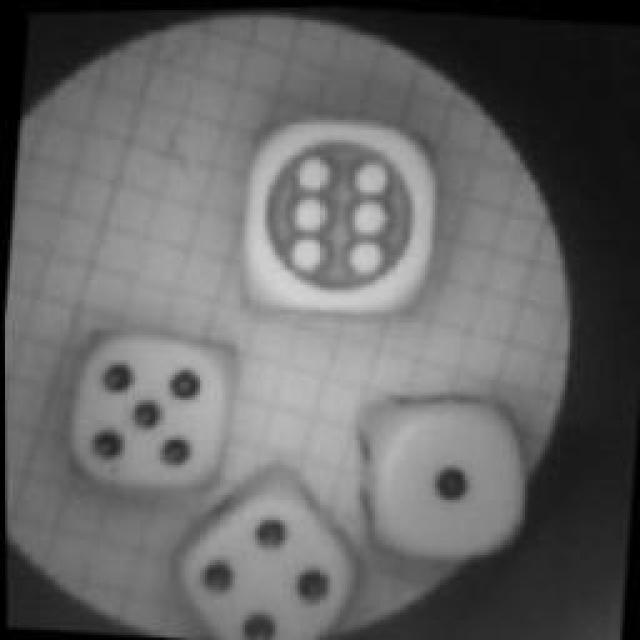dice_1: (344, 382, 538, 580)
dice_4: (173, 452, 375, 640)
dice_5: (53, 318, 245, 510)
dice_6: (219, 99, 449, 344)
